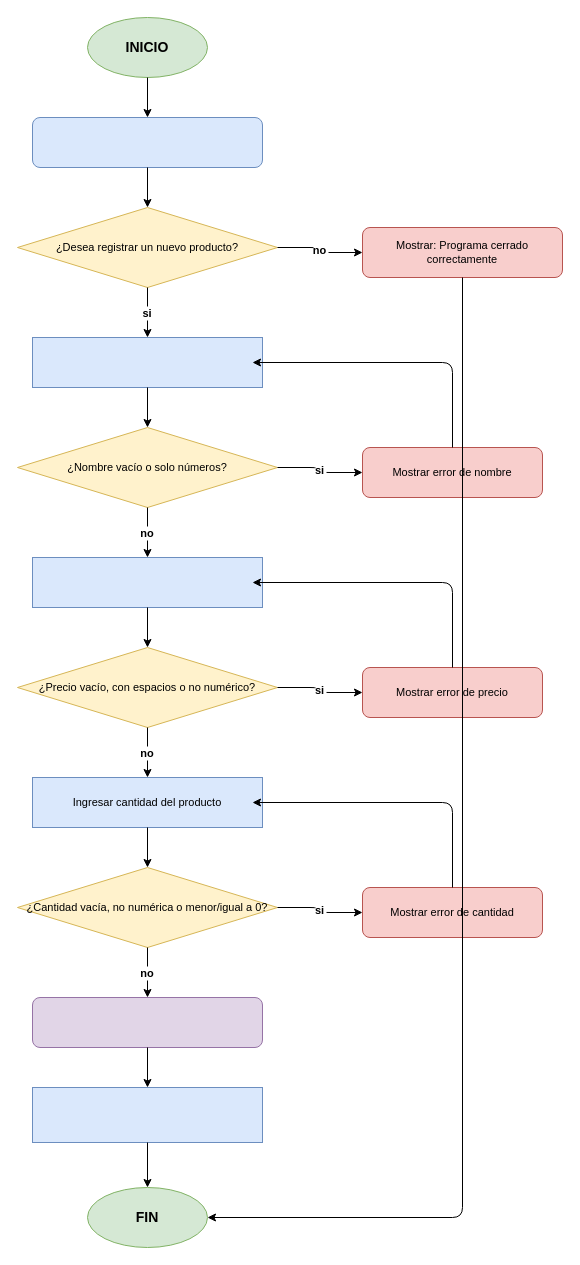
Some shapes in this 580 by 1265 pixel diagram are drawn without their labels. The shapes that lost their labels are listed below. From the top down, each one's centre as x and y in pixels, then its label:
At pixel 147 142: "Mostrar: Sistema de Registro de Inventario".
At pixel 147 362: "Ingresar nombre del producto".
At pixel 147 582: "Ingresar precio unitario".
At pixel 147 1022: "costo_total = precio × cantidad".
At pixel 147 1114: "Mostrar resumen: Producto | Precio | Cantidad | Total".
